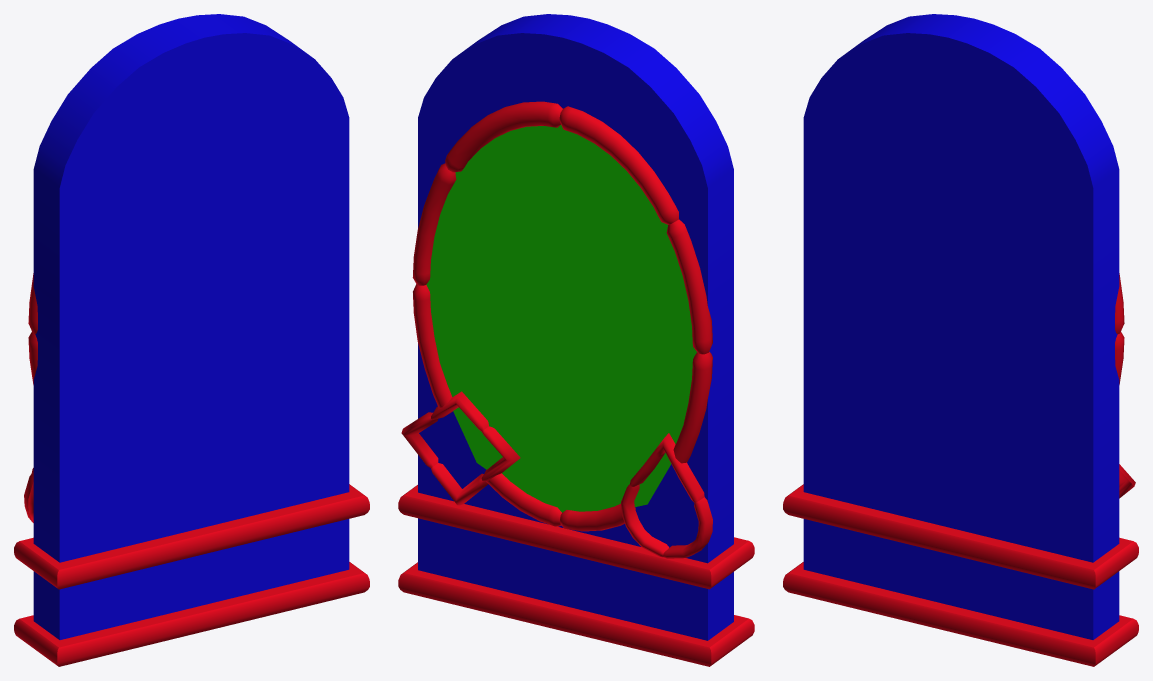
The model's file is Tumb.fbx.
The picture shows the model from 3 angles, left to right: view 1: azimuth 30°, elevation 25°; view 2: azimuth 150°, elevation 25°; view 3: azimuth 330°, elevation 25°; orthographic projection.
Visible parts, largest first — view 1: Tombe, Losange; view 2: Tombe, Fond, Losange; view 3: Tombe, Losange.
Part boxes in pixels (x1,y1,x2,y2): Tombe: [14, 14, 369, 666]; Losange: [24, 273, 37, 522]; Tombe: [398, 14, 754, 666]; Fond: [426, 125, 696, 512]; Losange: [401, 101, 712, 558]; Tombe: [783, 14, 1138, 666]; Losange: [1115, 273, 1135, 498].
Size of the model in its own units: 314 by 74.23 by 558.
